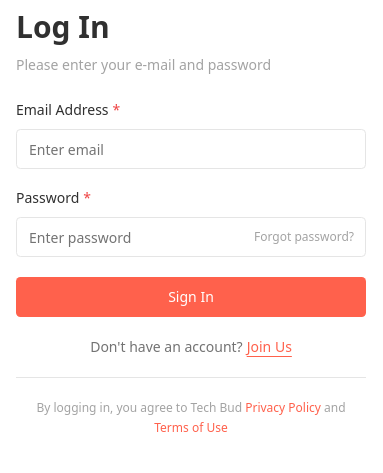
Test: LoginForm › form validation › shows validation error for Invalid Email
In the field labelled "Email Address": {"x": 191, "y": 149} [16,129,366,169], type "invalid-email@g"
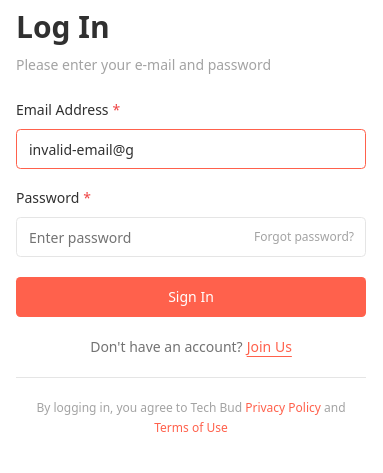
In the password field labelled "Enter password": {"x": 191, "y": 237} [16,217,366,257], type "password123"
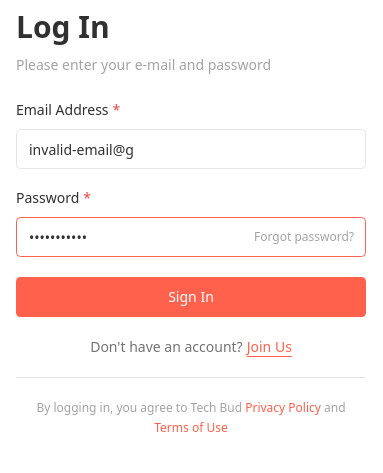
Click the button "Sign In": {"x": 191, "y": 297} [16,277,366,317]
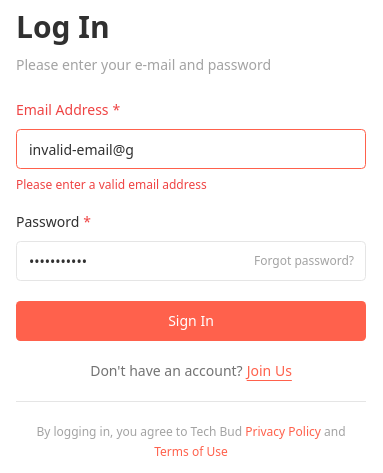
Check: the text "Please enter a valid email address" is shown, box [16,176,207,193]
